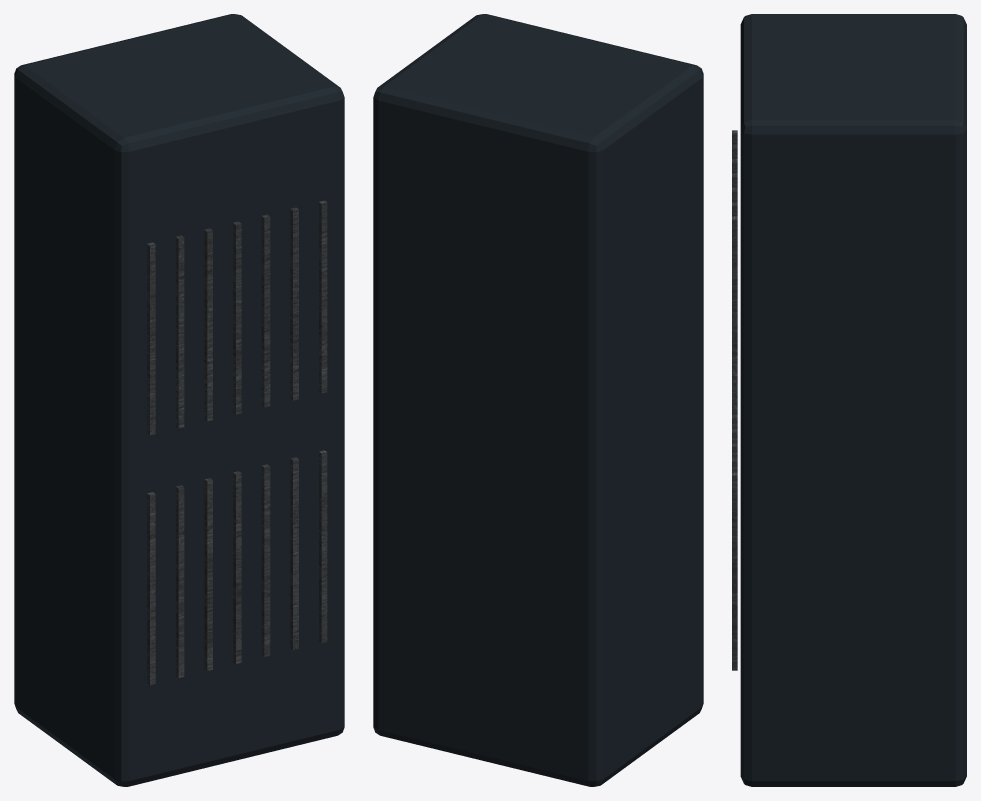
Rendered from commons-pa-speaker.glb.
The picture shows the model from 3 angles, left to right: view 1: azimuth 30°, elevation 25°; view 2: azimuth 150°, elevation 25°; view 3: azimuth 270°, elevation 25°; orthographic projection. The views are drawn at different scales.
Parts seen in each view (by area): view 1: AV_Speaker.002, AV_Grille.032, AV_Grille.039, AV_Grille.035, AV_Grille.037, AV_Grille.038, AV_Grille.029, AV_Grille.030, AV_Grille.040, AV_Grille.041, AV_Grille.033, AV_Grille.036 (+3 smaller); view 2: AV_Speaker.002; view 3: AV_Speaker.002, AV_Grille.041, AV_Grille.034.
Part boxes in pixels (left/top/right/bottom): AV_Speaker.002: left=14, top=14, right=344, bottom=786; AV_Grille.032: left=261, top=464, right=270, bottom=657; AV_Grille.039: left=261, top=214, right=270, bottom=407; AV_Grille.035: left=147, top=242, right=155, bottom=435; AV_Grille.037: left=204, top=228, right=212, bottom=421; AV_Grille.038: left=233, top=221, right=241, bottom=414; AV_Grille.029: left=176, top=485, right=184, bottom=678; AV_Grille.030: left=204, top=478, right=212, bottom=671; AV_Grille.040: left=290, top=207, right=298, bottom=400; AV_Grille.041: left=319, top=200, right=327, bottom=393; AV_Grille.033: left=290, top=457, right=298, bottom=650; AV_Grille.036: left=176, top=235, right=184, bottom=428; AV_Speaker.002: left=373, top=14, right=703, bottom=786; AV_Speaker.002: left=740, top=14, right=966, bottom=786; AV_Grille.041: left=732, top=216, right=737, bottom=414; AV_Grille.034: left=732, top=473, right=737, bottom=670.
Size of the model in its own units: 0.48 by 1.3 by 0.415.
2 materials, 1 textured.
